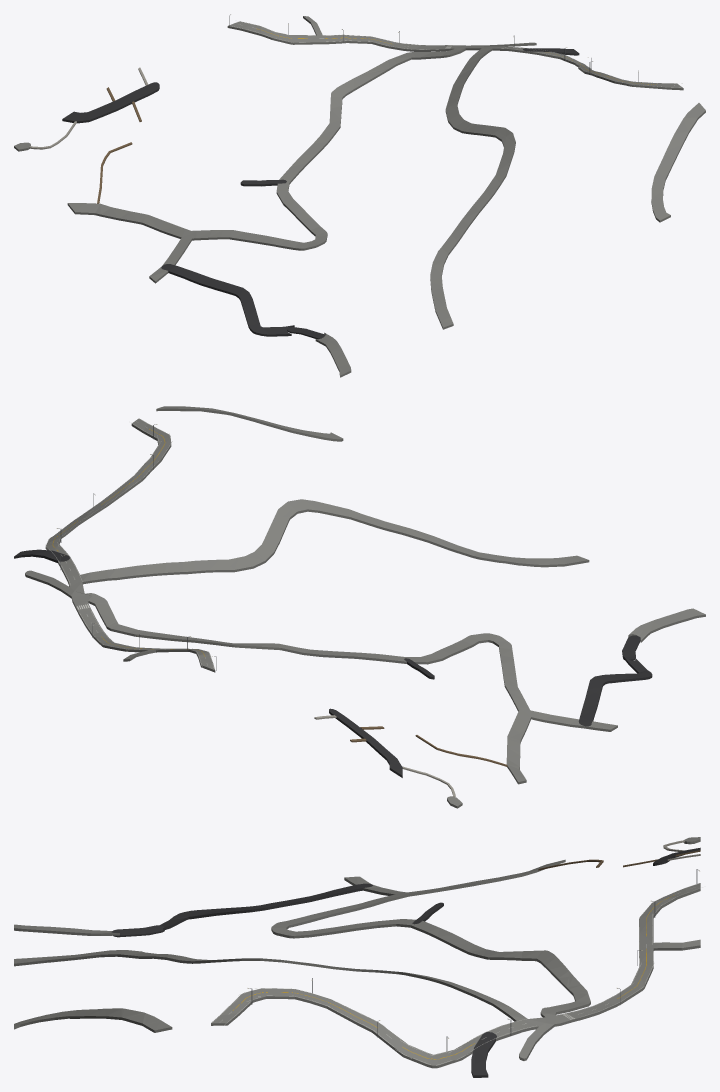
3 views of the same model, one above another, from view 1: azimuth 30°, elevation 25°; view 2: azimuth 150°, elevation 25°; view 3: azimuth 270°, elevation 25° (orthographic). The views are drawn at different scales.
Bounding box in the file's own units: 296 × 85.02 × 294.
